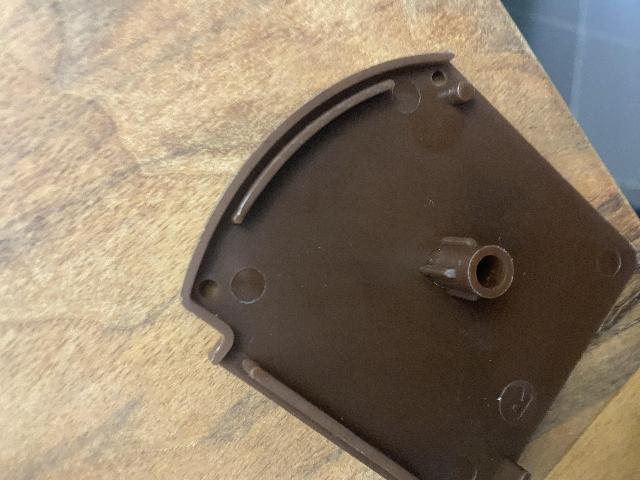Plastik: (167, 52, 640, 480)
